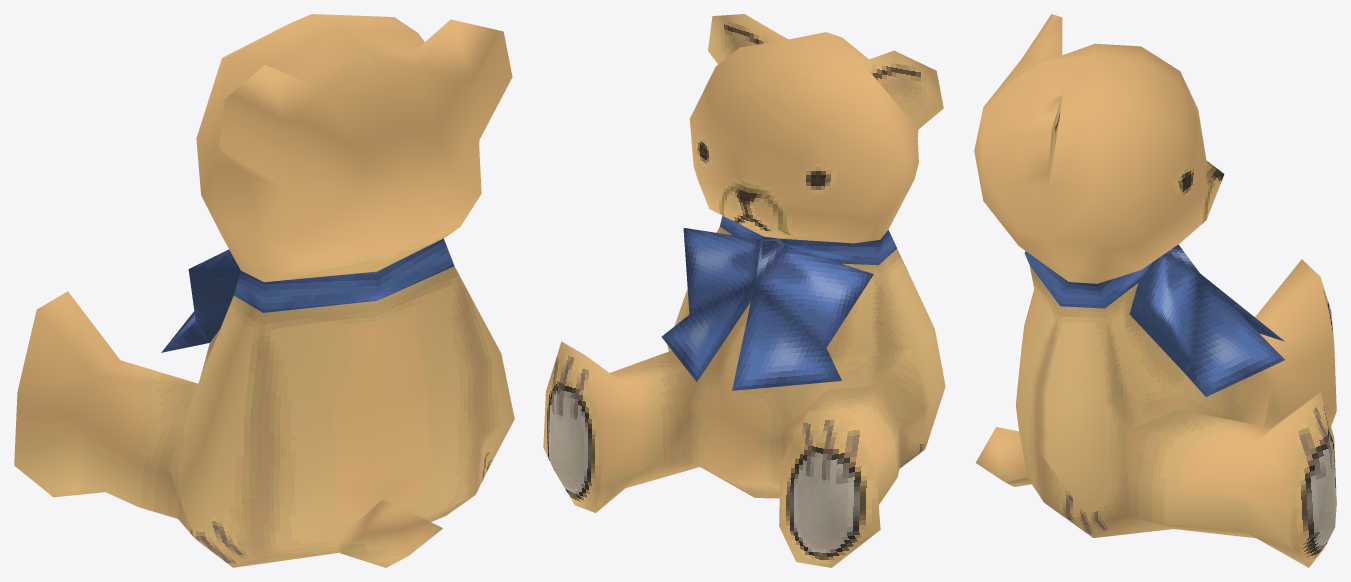
Rendered from ps2_save-icons_junjouromantica.glb.
The picture shows the model from 3 angles, left to right: view 1: azimuth 30°, elevation 25°; view 2: azimuth 150°, elevation 25°; view 3: azimuth 270°, elevation 25°; orthographic projection. The views are drawn at different scales.
Parts seen in each view (by area): view 1: icon.ico; view 2: icon.ico; view 3: icon.ico.
Boxes of the visible parts, x1=… form: icon.ico: x1=14, y1=14, x2=514, y2=567; icon.ico: x1=543, y1=14, x2=945, y2=567; icon.ico: x1=974, y1=14, x2=1336, y2=567.
Size of the model in its own units: 3.14 by 3.73 by 2.75.
1 material, 1 textured.
